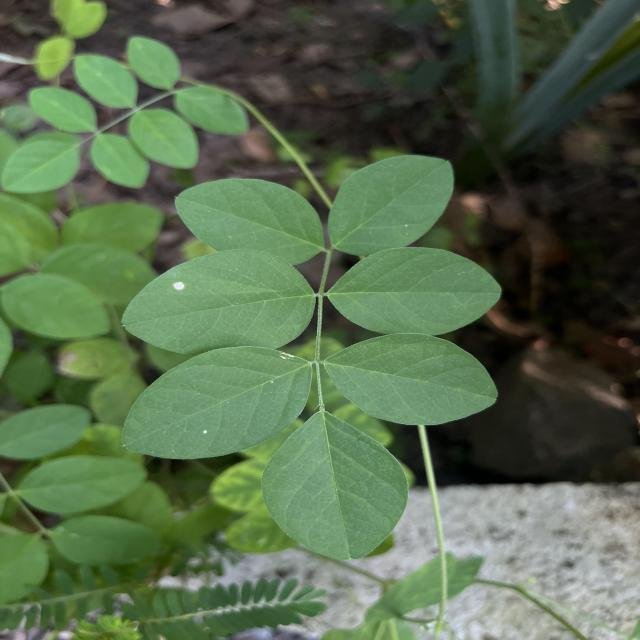Clitoria ternatea: (259, 408, 410, 564), (120, 344, 316, 462), (120, 246, 316, 358), (322, 331, 501, 427), (326, 245, 504, 335), (326, 152, 457, 258), (173, 176, 325, 267)
